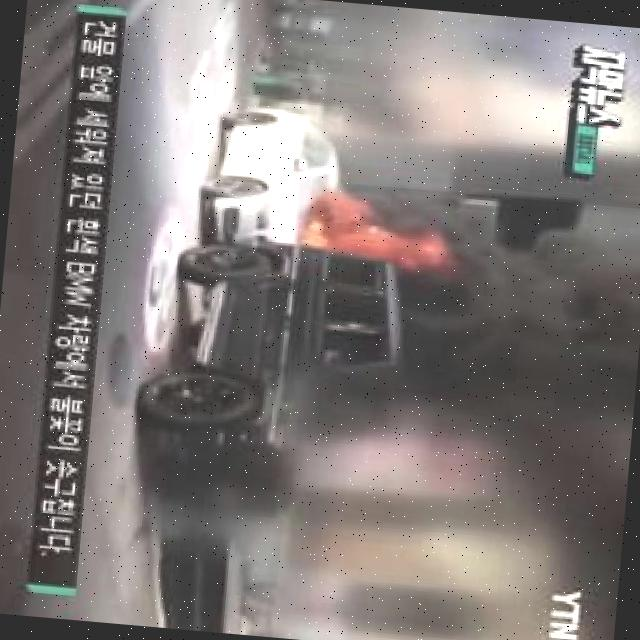fire: (290, 189, 467, 283)
